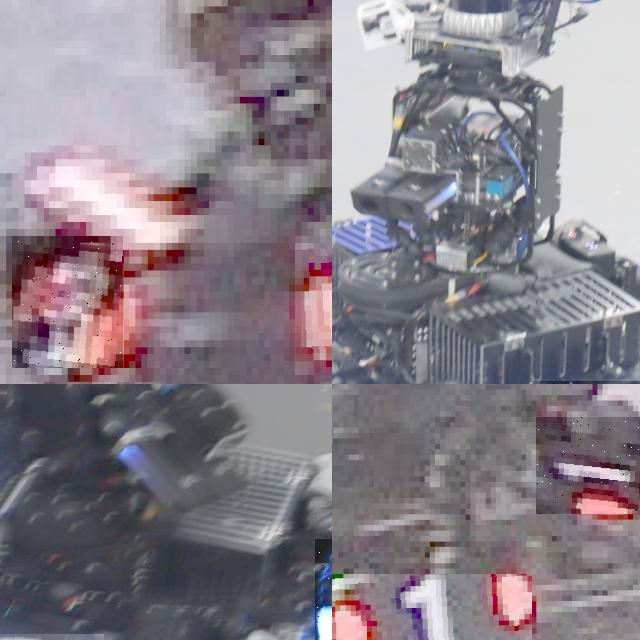Bs: (315, 539, 332, 640)
R1: (332, 574, 531, 640), (536, 416, 640, 514)
R3: (12, 236, 123, 368), (295, 243, 332, 375)
